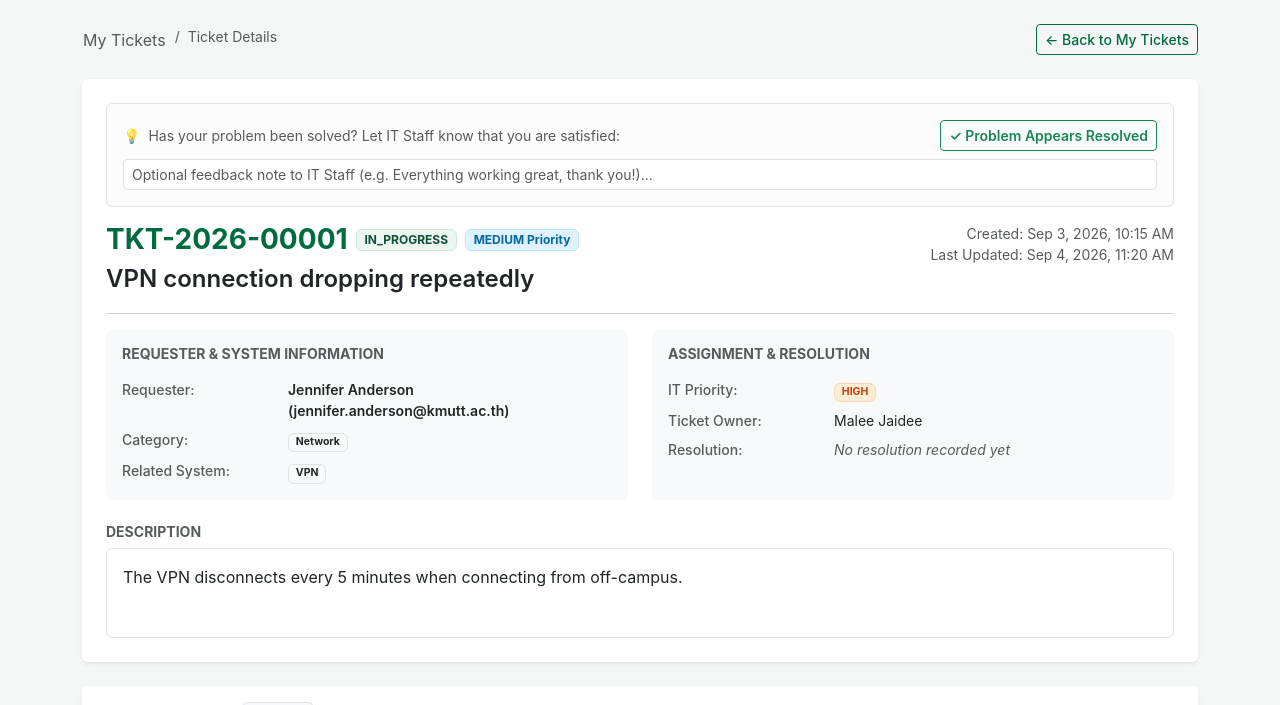
Test: Requester Ticket Detail & Resolution Indication (UI-08) › UI-08.2: Clicking 'Problem Appears Resolved' sends indication and renders confirmed banner
Click the button with test id "problem-appears-resolved-btn". click: (1049, 136)
box: [940, 120, 1157, 151]
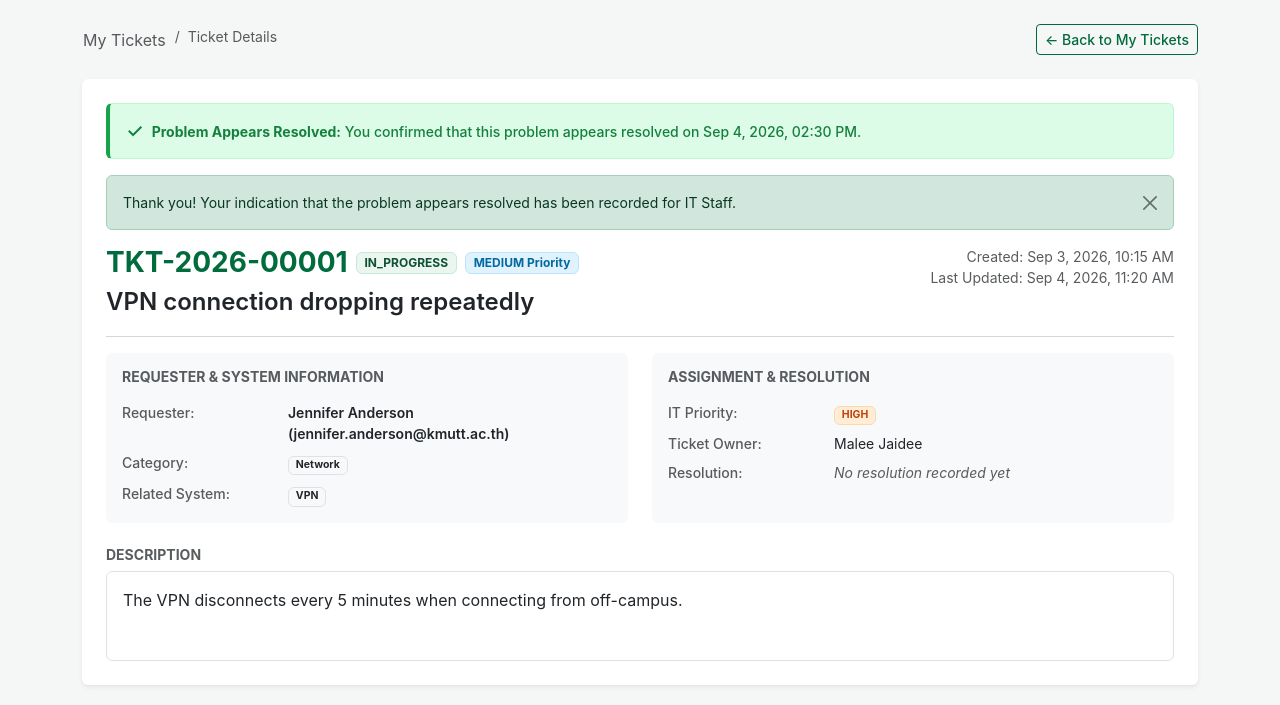
Check: the element with test id "requester-resolved-indication" is shown, box [106, 103, 1174, 159]
Check: the text "Problem Appears Resolved:" is shown, box [152, 122, 341, 140]
Check: the button with test id "problem-appears-resolved-btn" is gone
